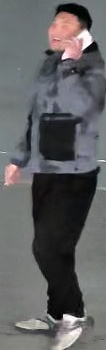phone: (39, 5, 103, 123)
